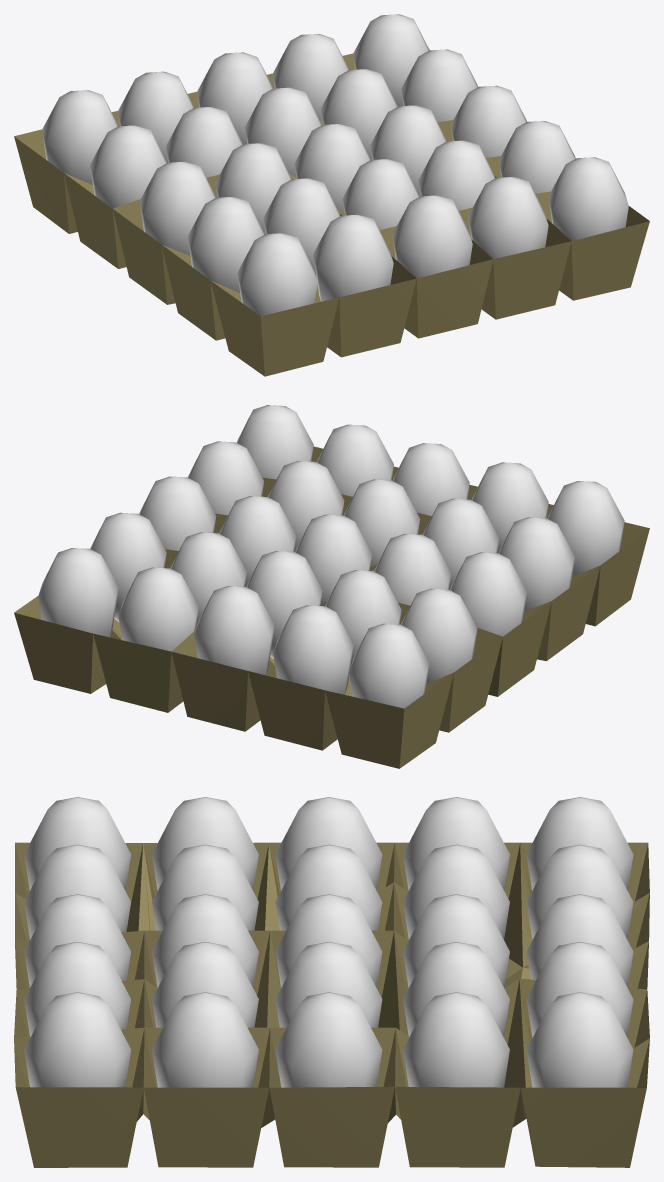
File: Egg (full).fbx
3 renders of one model, top to bottom at view 1: azimuth 30°, elevation 25°; view 2: azimuth 150°, elevation 25°; view 3: azimuth 270°, elevation 25°, orthographic. The views are drawn at different scales.
Parts seen in each view (by area): view 1: Tray.021, Tray; view 2: Tray.021, Tray; view 3: Tray.021, Tray.
Boxes of the visible parts, x1,y1,x2,y2 form: Tray.021: [42, 14, 628, 315]; Tray: [14, 53, 649, 376]; Tray.021: [38, 405, 624, 708]; Tray: [14, 446, 649, 768]; Tray.021: [24, 797, 633, 1087]; Tray: [14, 842, 649, 1167].
Bounding box in the file's own units: 1.97 × 0.5997 × 2.16.
